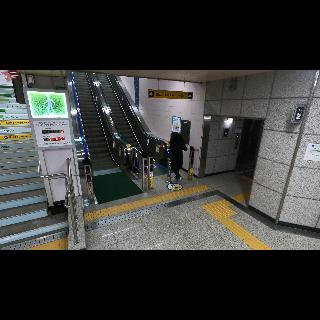normal: (168, 132, 188, 182)
